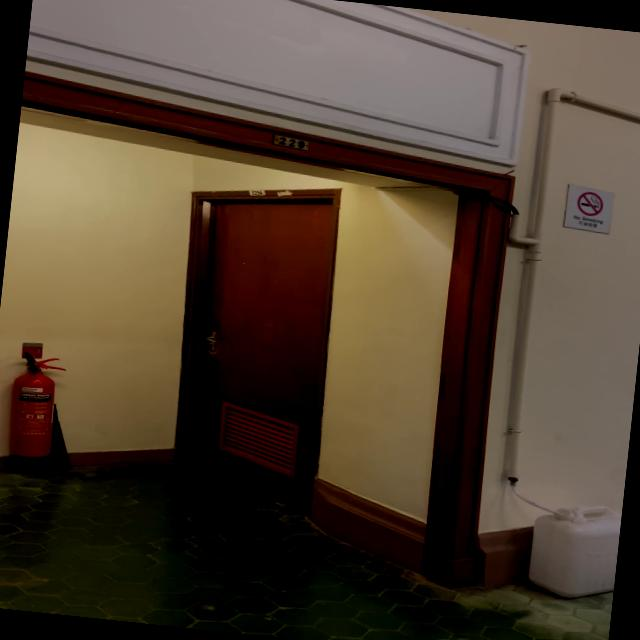room229: (270, 132, 312, 152)
